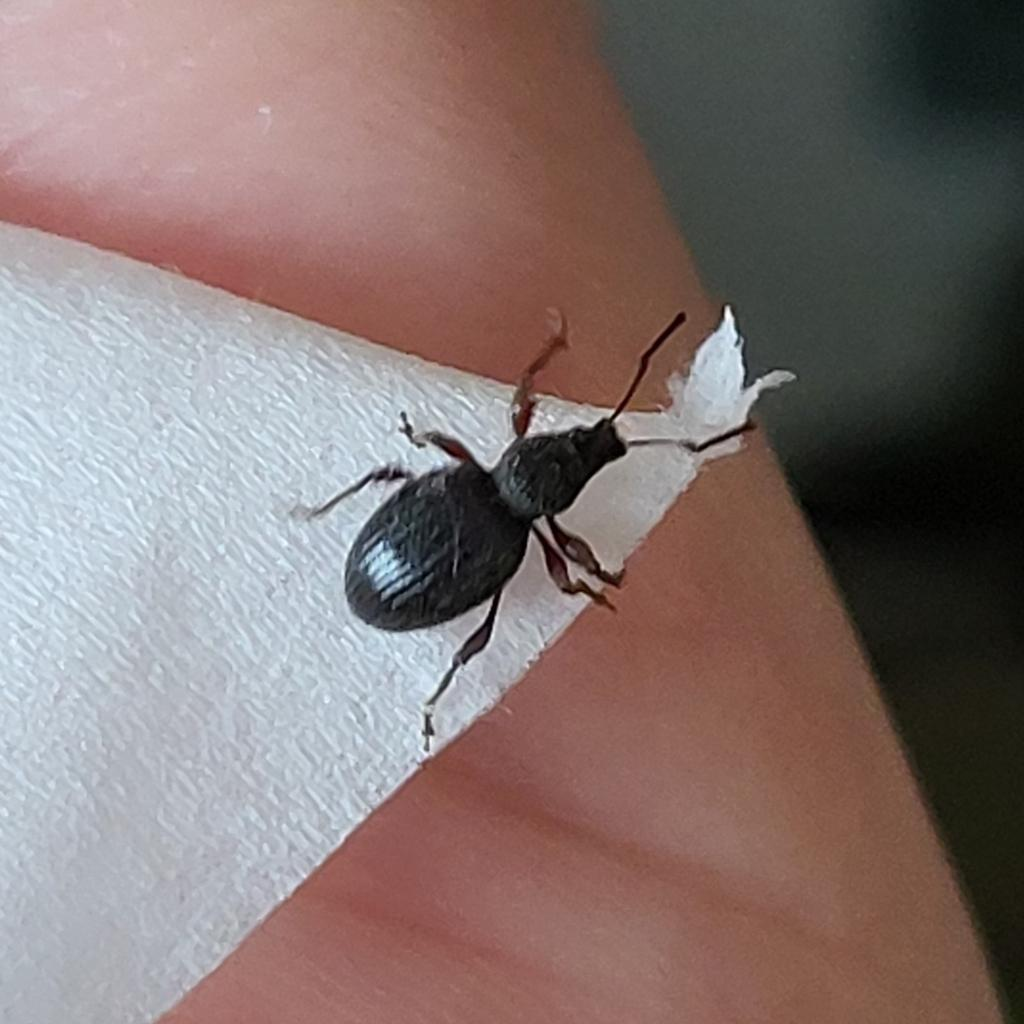weevils: (237, 207, 806, 796)
